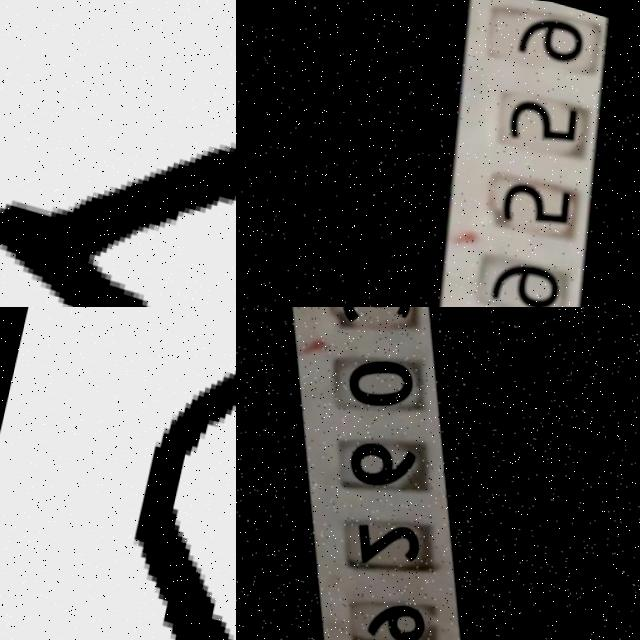0: (327, 327, 440, 430)
2: (342, 492, 448, 588)
3: (320, 307, 434, 349)
5: (479, 150, 597, 257), (487, 68, 603, 175)
6: (328, 407, 446, 512)
9: (487, 0, 614, 92), (469, 228, 586, 307), (348, 573, 454, 640)
K: (41, 326, 236, 640)
V: (0, 0, 236, 307)
